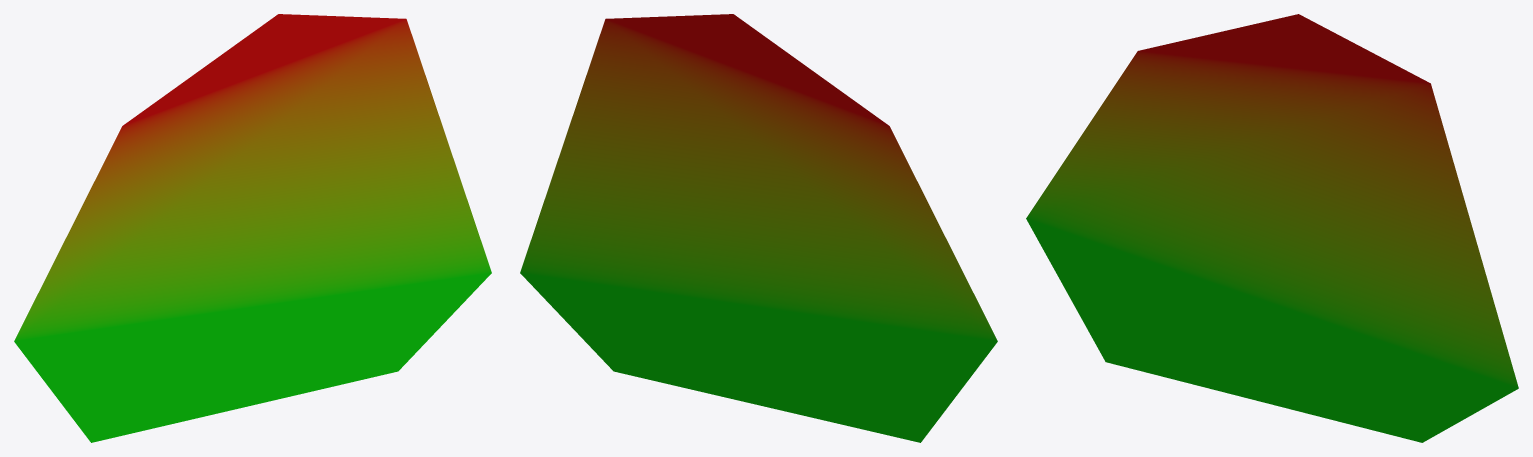
Rendered from Var14_LOD4.fbx.
3 views of the same model, side by side, from view 1: azimuth 30°, elevation 25°; view 2: azimuth 150°, elevation 25°; view 3: azimuth 330°, elevation 25° (orthographic). The views are drawn at different scales.
Parts seen in each view (by area): view 1: _a82e_Var14_LOD4; view 2: _a82e_Var14_LOD4; view 3: _a82e_Var14_LOD4.
Part boxes in pixels (<box>): _a82e_Var14_LOD4: <box>14,14,491,442</box>; _a82e_Var14_LOD4: <box>520,14,997,442</box>; _a82e_Var14_LOD4: <box>1026,14,1518,442</box>.
Bounding box in the file's own units: 12.47 × 9.64 × 1.18e-06.
